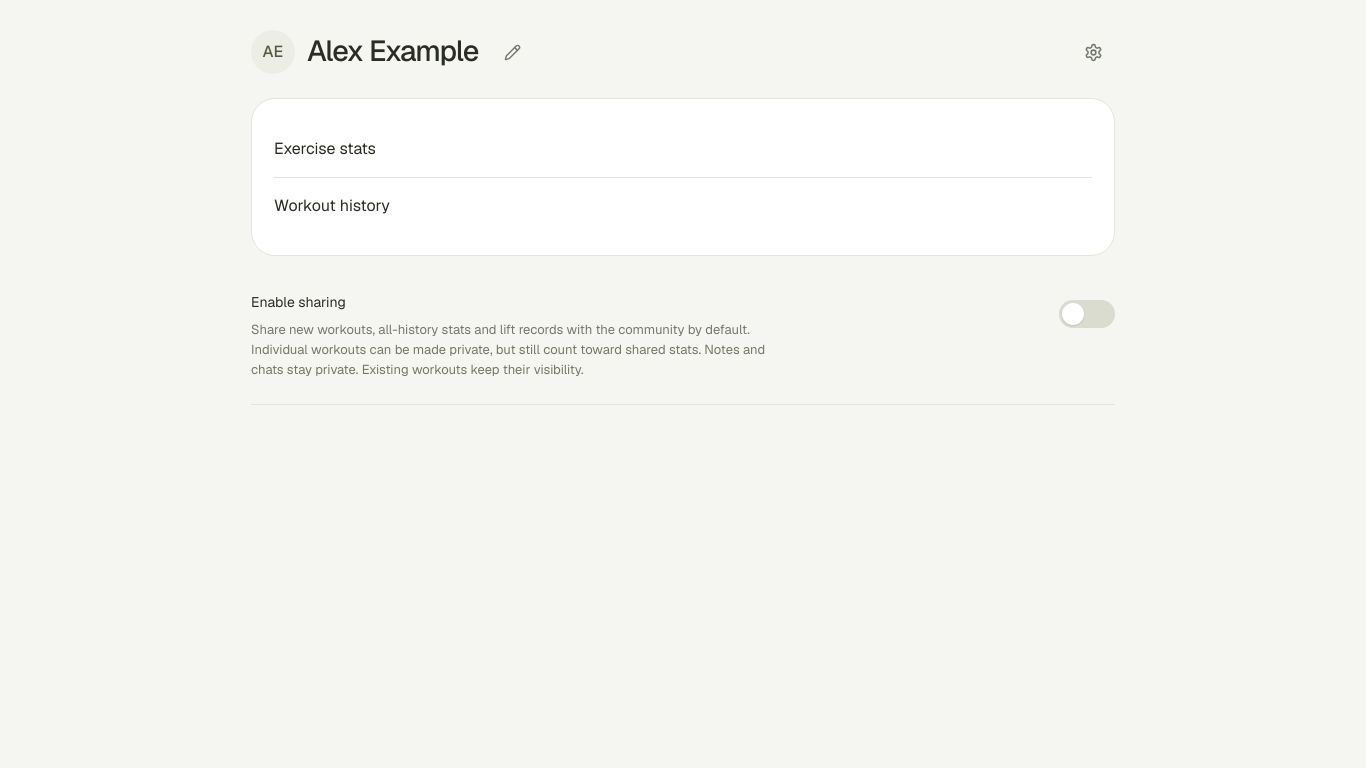
it: keeps account settings free of separate workout sharing controls
This screenshot has width=1366, height=768.
Step 1. Click the button named "Account settings" → (1093,52), box x1=1071 y1=30 x2=1115 y2=74
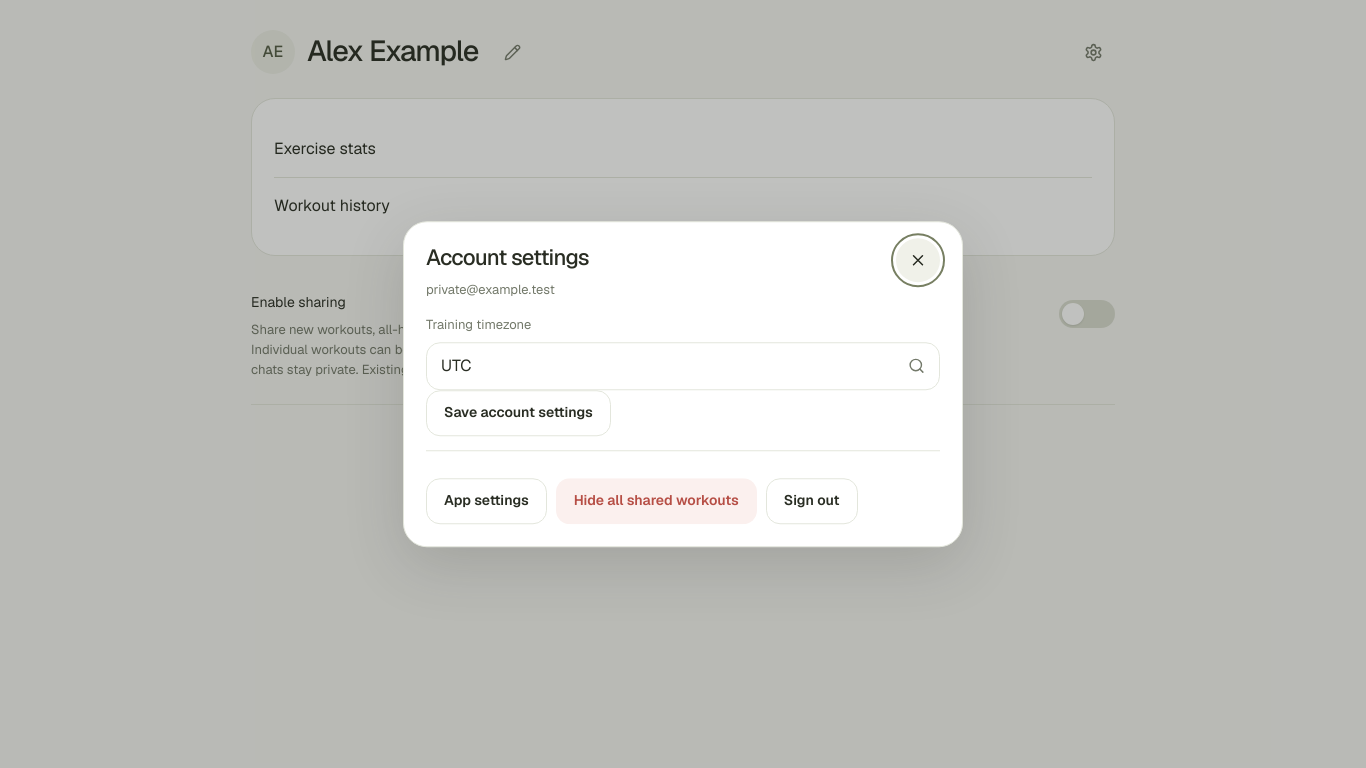
Now the button "Save account settings" is shown, box x1=426 y1=390 x2=611 y2=436
